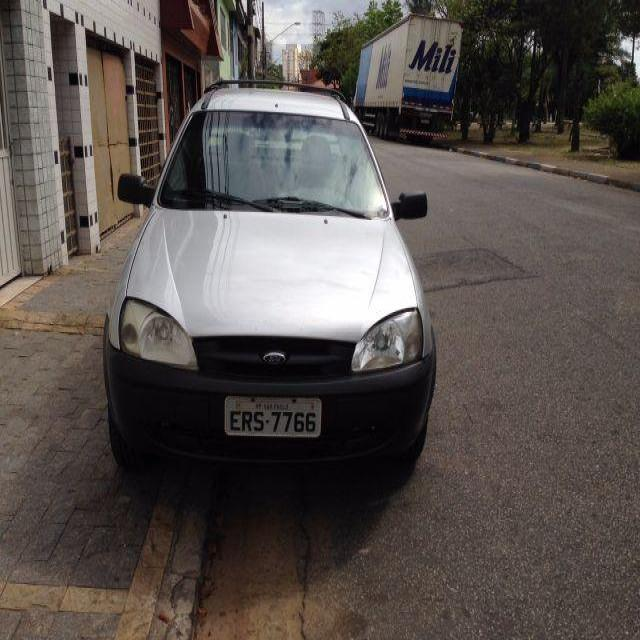Placa: (221, 392, 327, 440)
